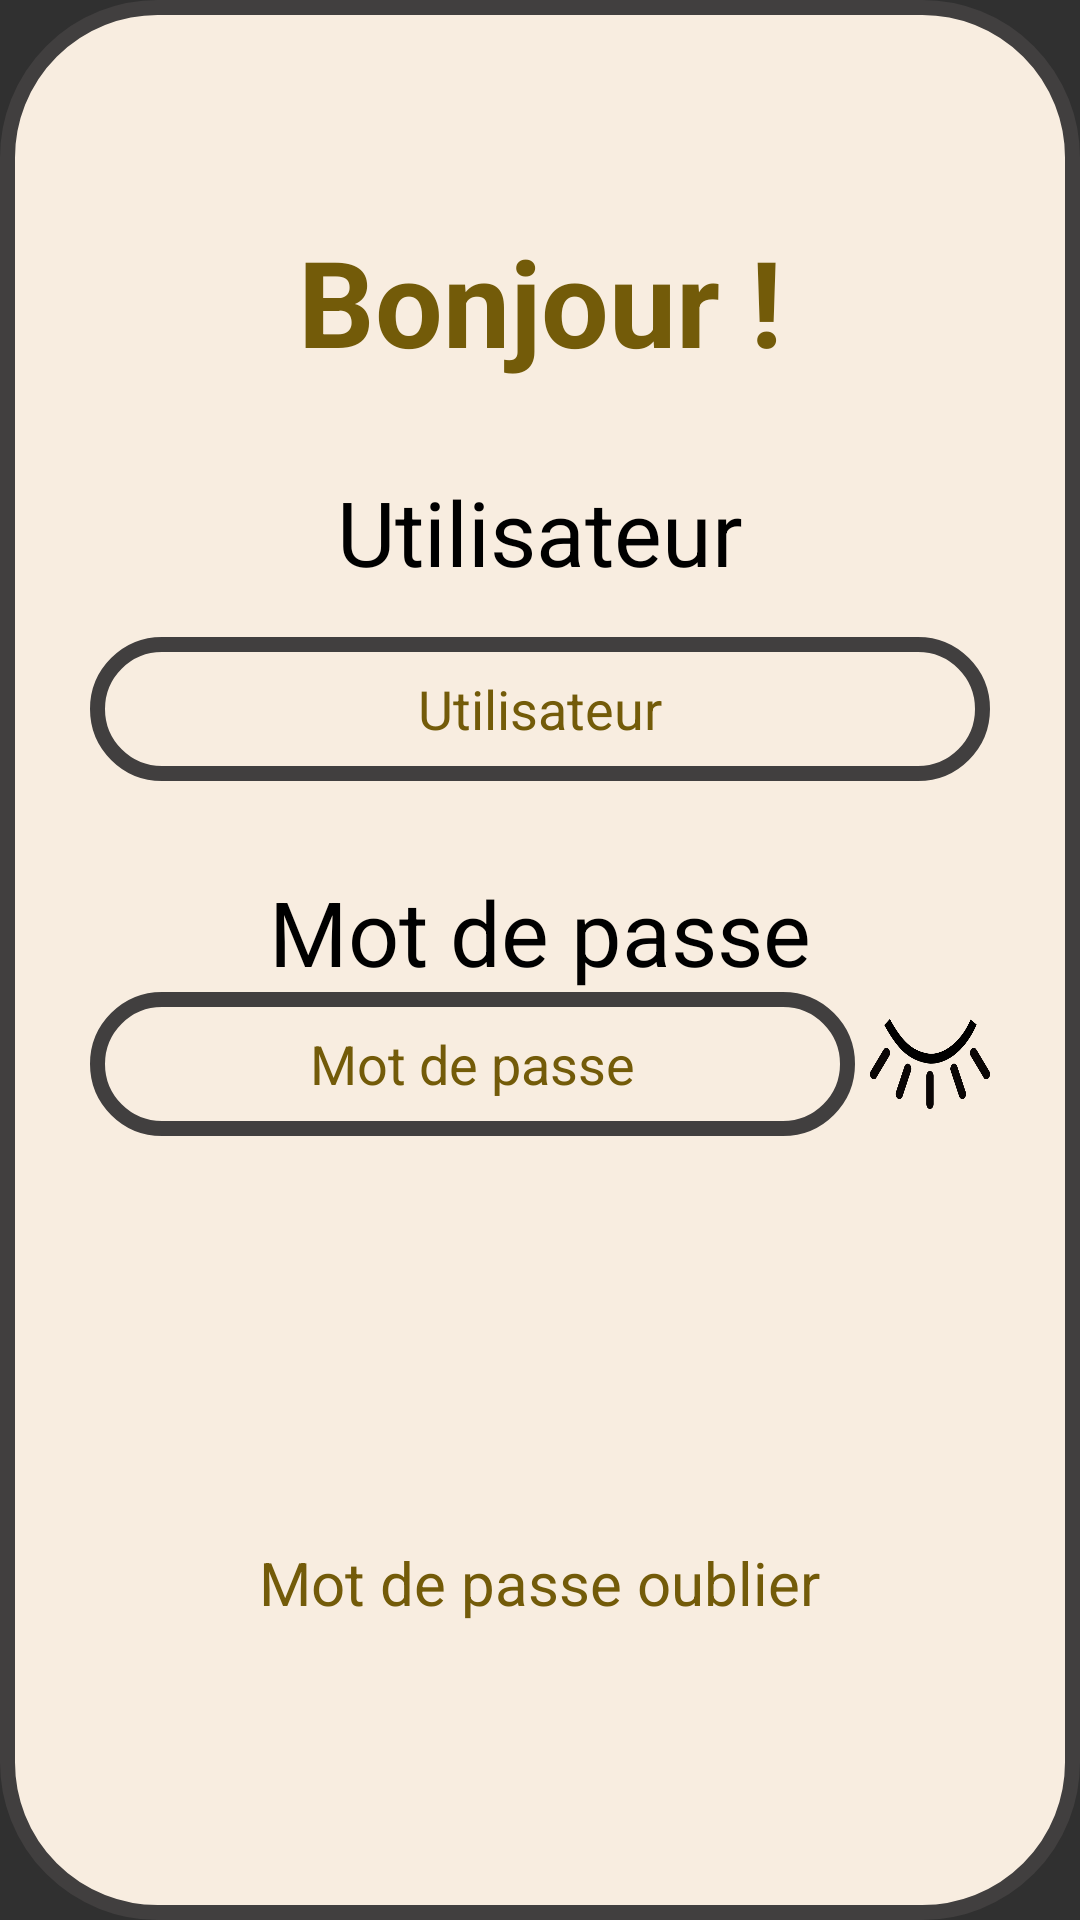

Icon click points for this 1080 × 1920 phone screenshot, format [x,y]:
invisibility mdp noir: [930,1064]
